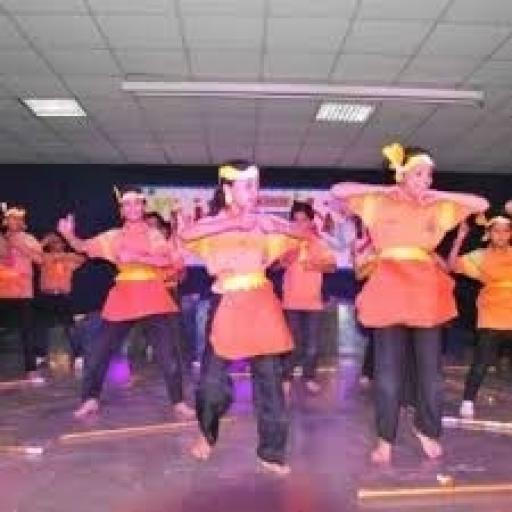dancing: (328, 141, 494, 469), (175, 157, 339, 478), (55, 182, 200, 426)
